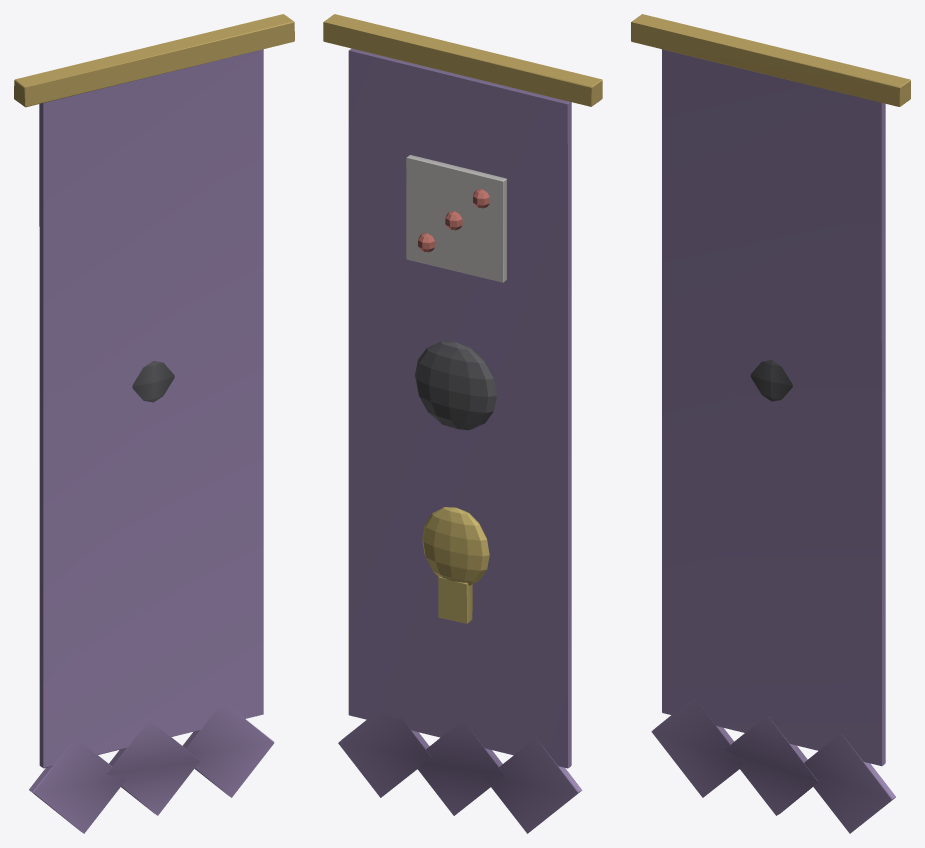
The model's file is games_banner_low.glb.
3 views of the same model, side by side, from view 1: azimuth 30°, elevation 25°; view 2: azimuth 150°, elevation 25°; view 3: azimuth 330°, elevation 25° (orthographic).
Bounding box in the file's own units: 1.1 × 2.98 × 0.1399.
